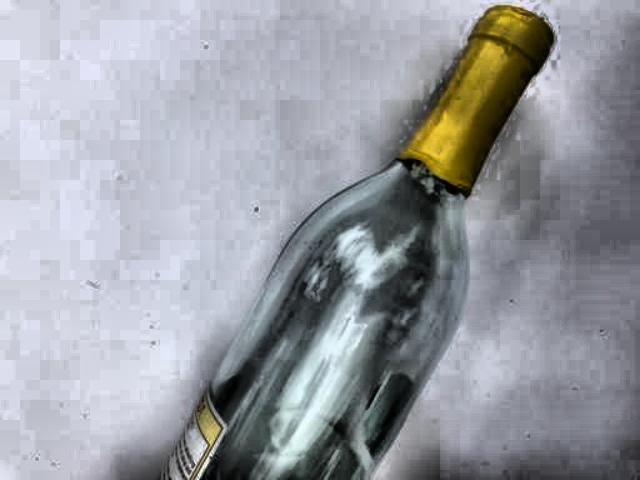Bottles: (119, 0, 582, 480)
